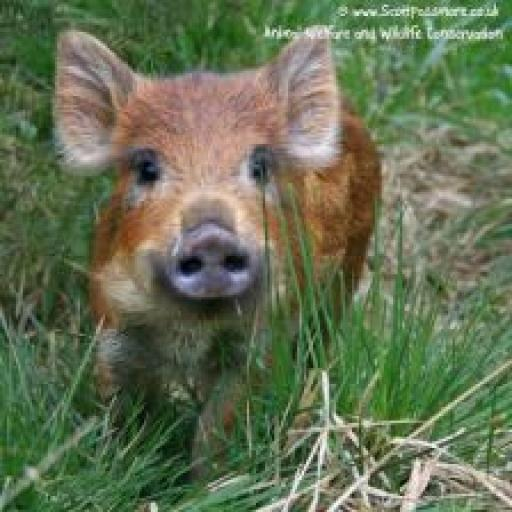Pig: (55, 27, 382, 472)
